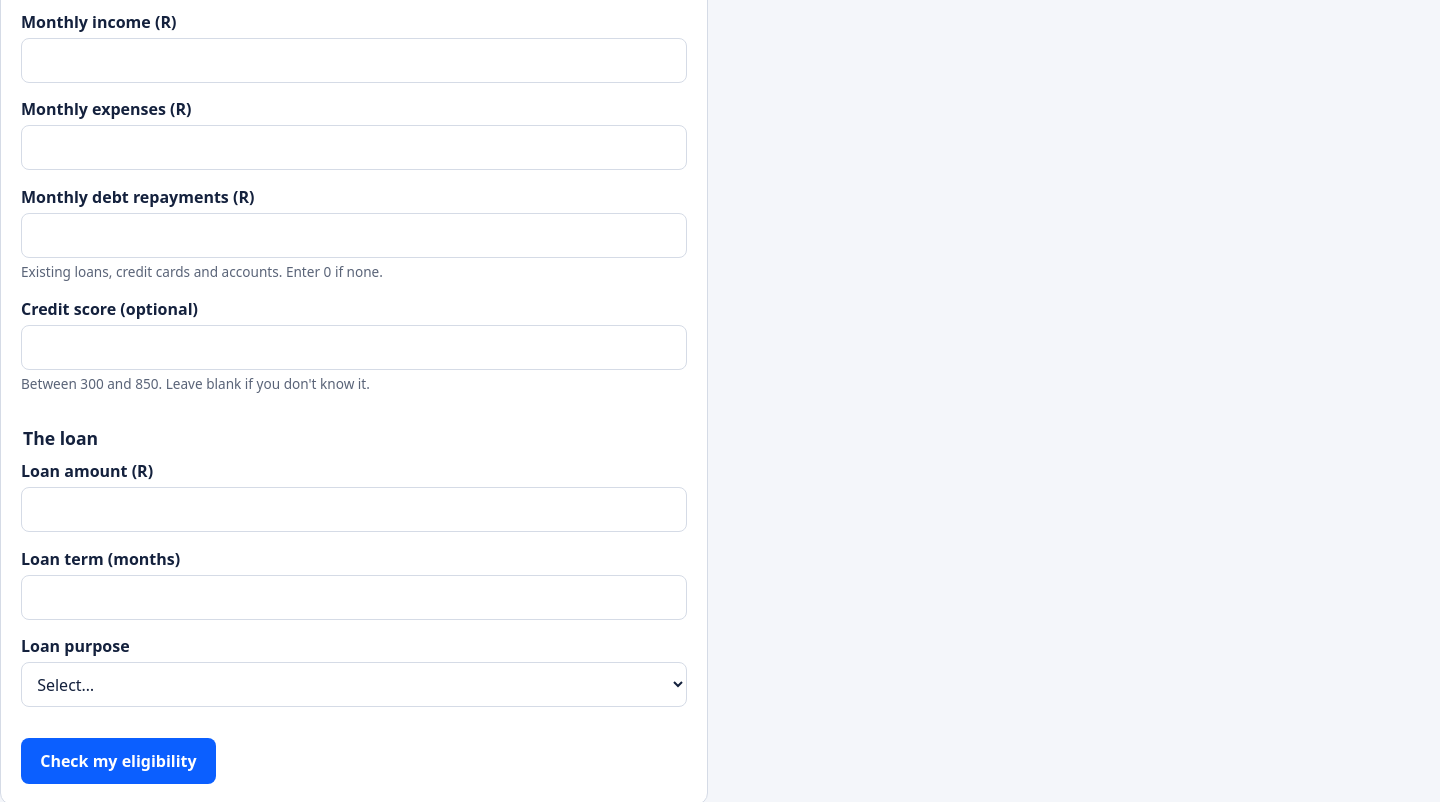
Test case: LoanSimulatorPage › shows validation messages from the rules endpoint when submitting an empty form
The width and height of the screenshot is (1440, 802).
(page scrolled)
What coordinates should you click on to do the following:
click the button "Check my eligibility"
I would click on:
 (118, 761)
Its box is [21,738,216,784].
(page scrolled)
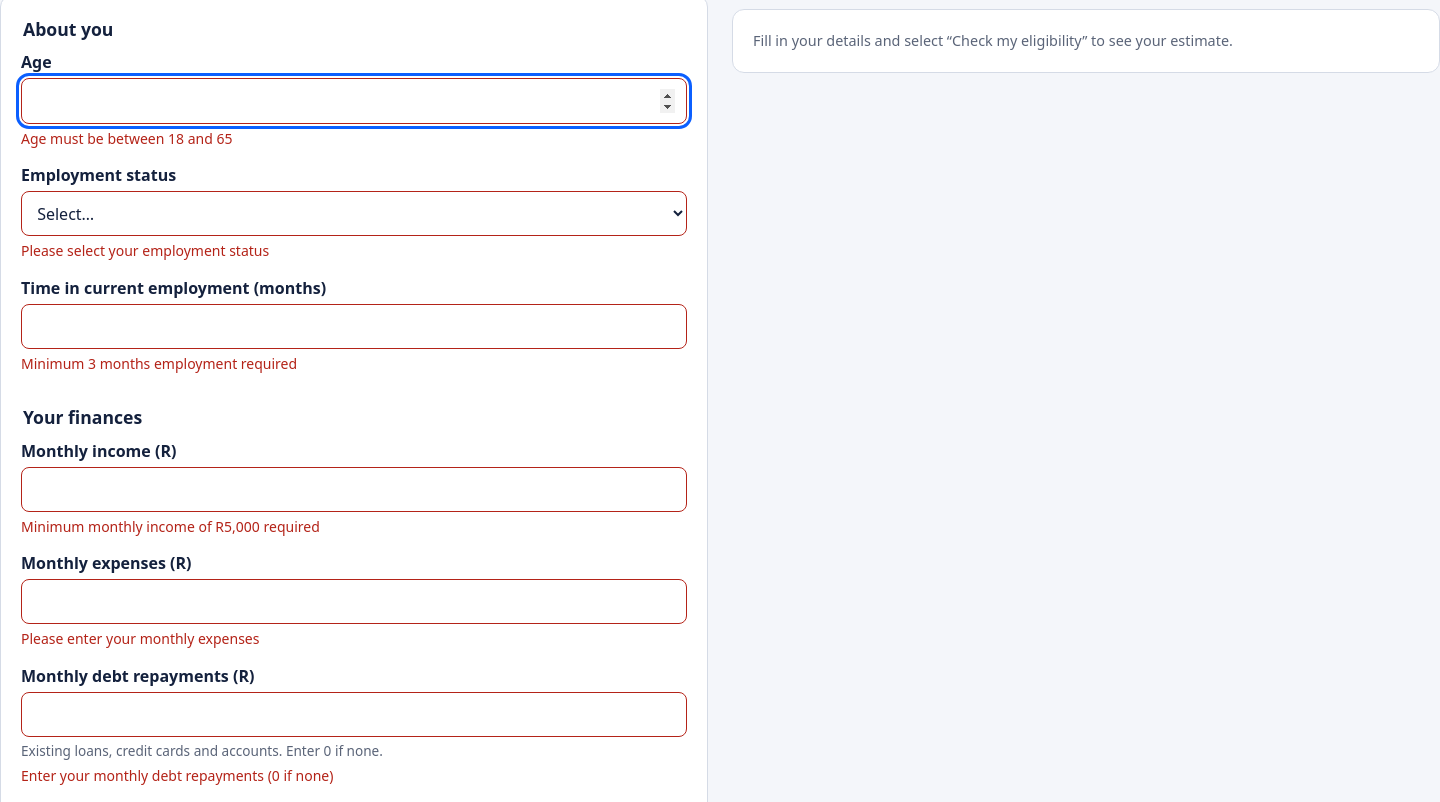
Check: the text "Age must be between 18 and 65" is shown, box [21,129,232,148]
Check: the text "Please select your employment status" is shown, box [21,241,269,260]
Check: the text "Minimum monthly income of R5,000 required" is shown, box [21,517,320,536]
